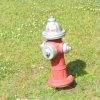a fire hydrant: (42, 16, 74, 86)
